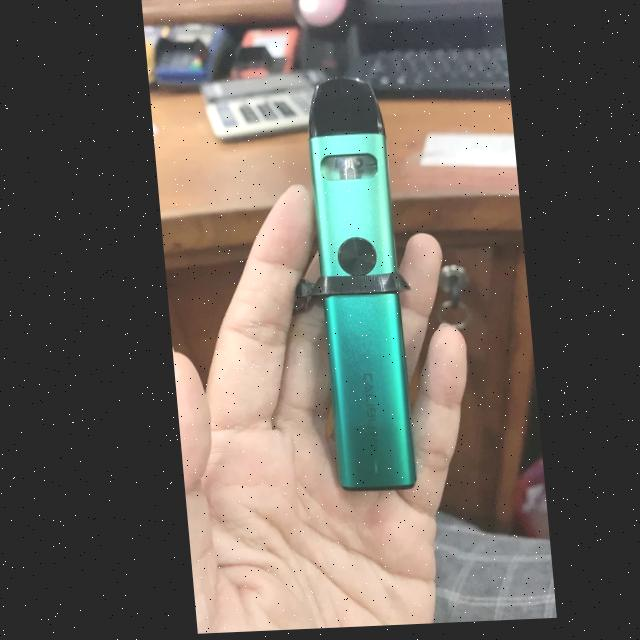vape: (299, 79, 406, 492)
